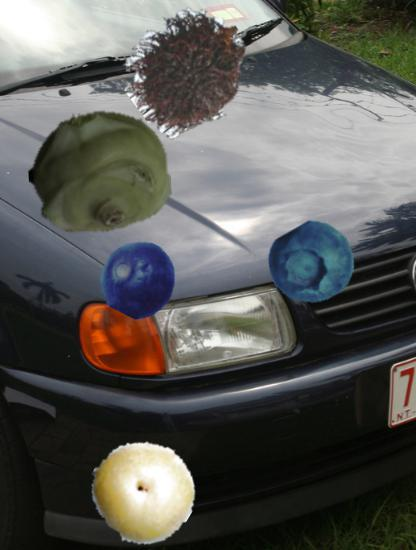Huckleberry: (269, 221, 355, 307), (101, 241, 178, 318)
Kohlrabi: (29, 101, 171, 243)
Maracuja: (90, 439, 196, 545)
Rambutan: (124, 5, 253, 134)
